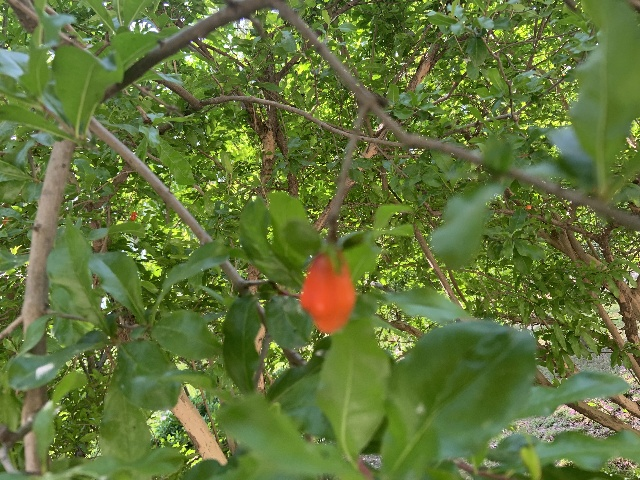bud: (299, 253, 355, 334), (526, 205, 531, 209)
flower: (130, 211, 137, 221)
